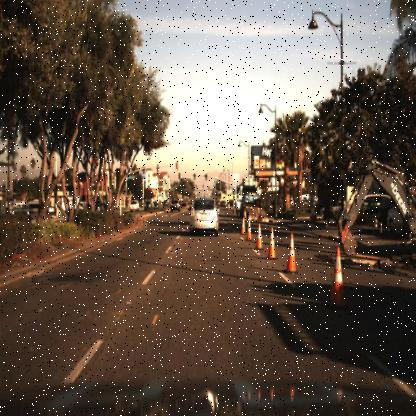car: (187, 193, 220, 238), (238, 178, 267, 224), (310, 192, 348, 226), (168, 194, 180, 215), (233, 196, 245, 217), (128, 198, 140, 214), (129, 199, 139, 211), (152, 199, 160, 209)
truck: (239, 184, 267, 218)
